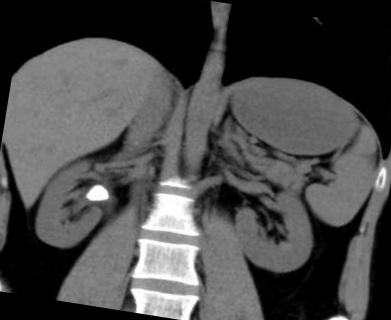Tas_Var: (84, 180, 110, 207)
